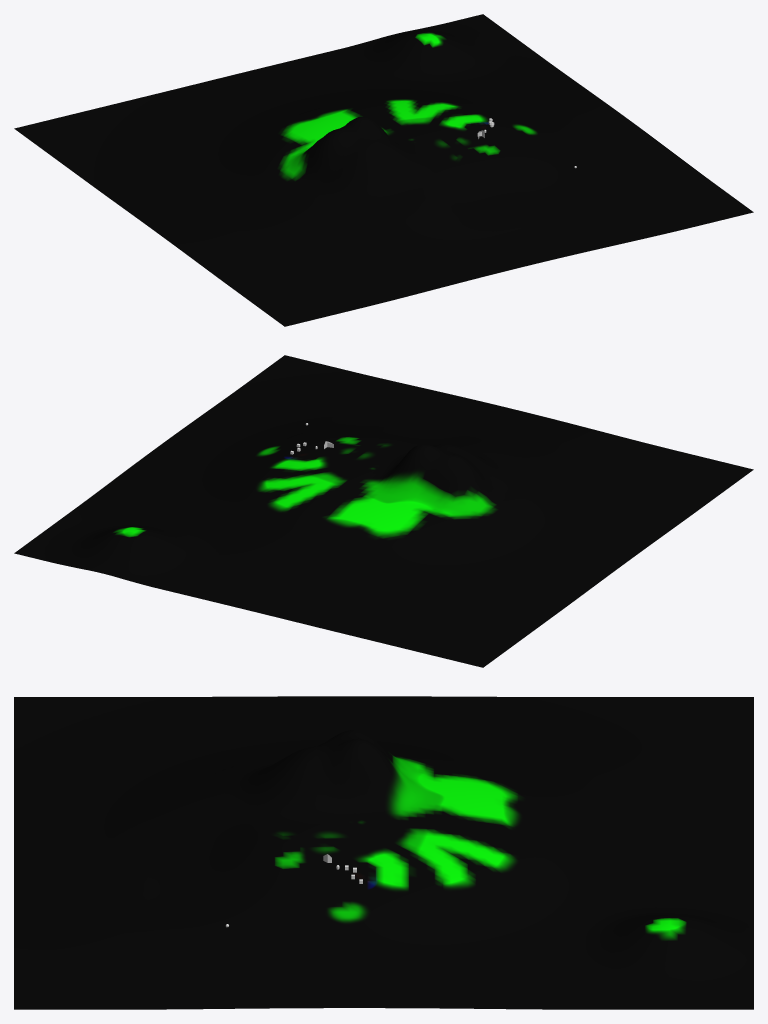
3 renders of one model, top to bottom at view 1: azimuth 30°, elevation 25°; view 2: azimuth 150°, elevation 25°; view 3: azimuth 270°, elevation 25°, orthographic. The views are drawn at different scales.
Visible parts, largest first — view 1: land.002; view 2: land.002; view 3: land.002.
Part boxes in pixels (box(x1,y1,x2,y2)): land.002: box(14, 14, 753, 326); land.002: box(14, 355, 753, 667); land.002: box(14, 696, 753, 1009).
Size of what is drawn, in the model's own units: 400 by 66.22 by 400.
1 material, 1 textured.
